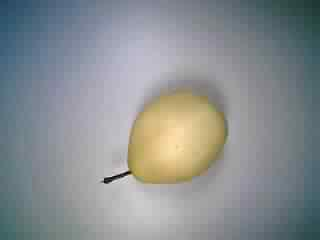pear: (95, 84, 238, 197)
